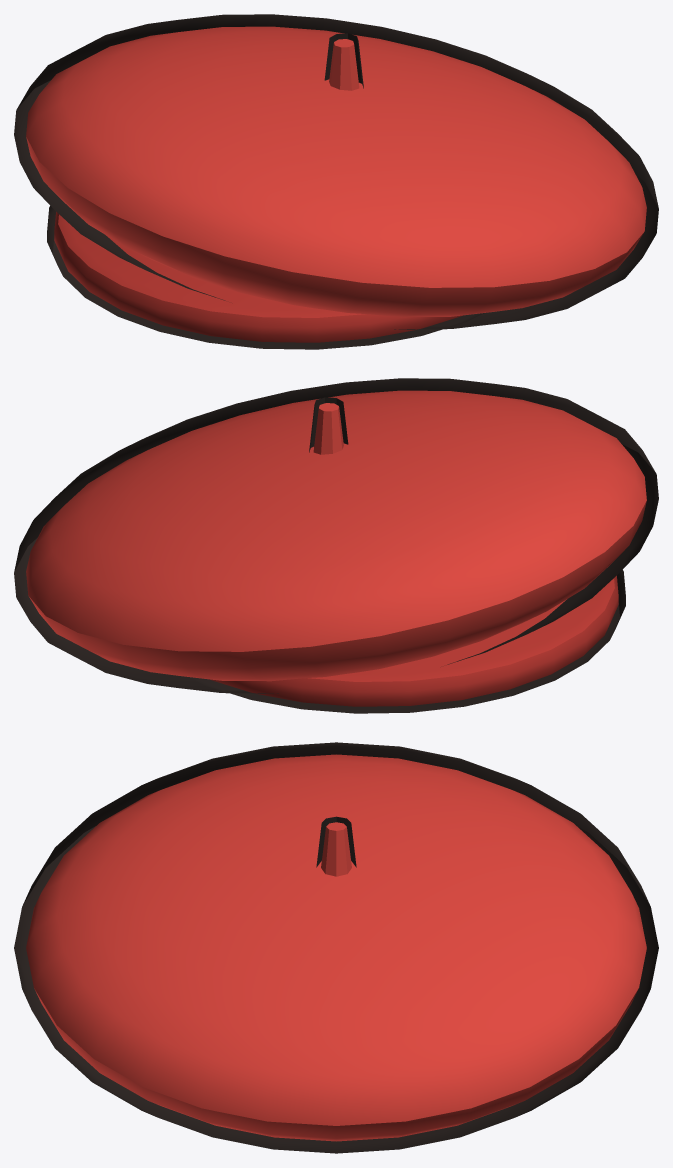
Rendered from hat_beret.fbx.
3 renders of one model, top to bottom at view 1: azimuth 30°, elevation 25°; view 2: azimuth 150°, elevation 25°; view 3: azimuth 270°, elevation 25°, orthographic.
Parts seen in each view (by area): view 1: hat_beret_C_D9433A, hat_beret_Outline, hat_beret_C_B8352E; view 2: hat_beret_C_D9433A, hat_beret_Outline, hat_beret_C_B8352E; view 3: hat_beret_C_D9433A, hat_beret_Outline.
Boxes of the visible parts, x1=… form: hat_beret_C_D9433A: x1=26, y1=26, x2=646, y2=317; hat_beret_Outline: x1=14, y1=14, x2=658, y2=349; hat_beret_C_B8352E: x1=54, y1=211, x2=462, y2=342; hat_beret_C_D9433A: x1=26, y1=390, x2=646, y2=681; hat_beret_Outline: x1=14, y1=378, x2=658, y2=713; hat_beret_C_B8352E: x1=210, y1=575, x2=618, y2=706; hat_beret_C_D9433A: x1=26, y1=754, x2=646, y2=1141; hat_beret_Outline: x1=14, y1=742, x2=658, y2=1153.
Size of the model in its own units: 0.7366 by 0.3017 by 0.748.
